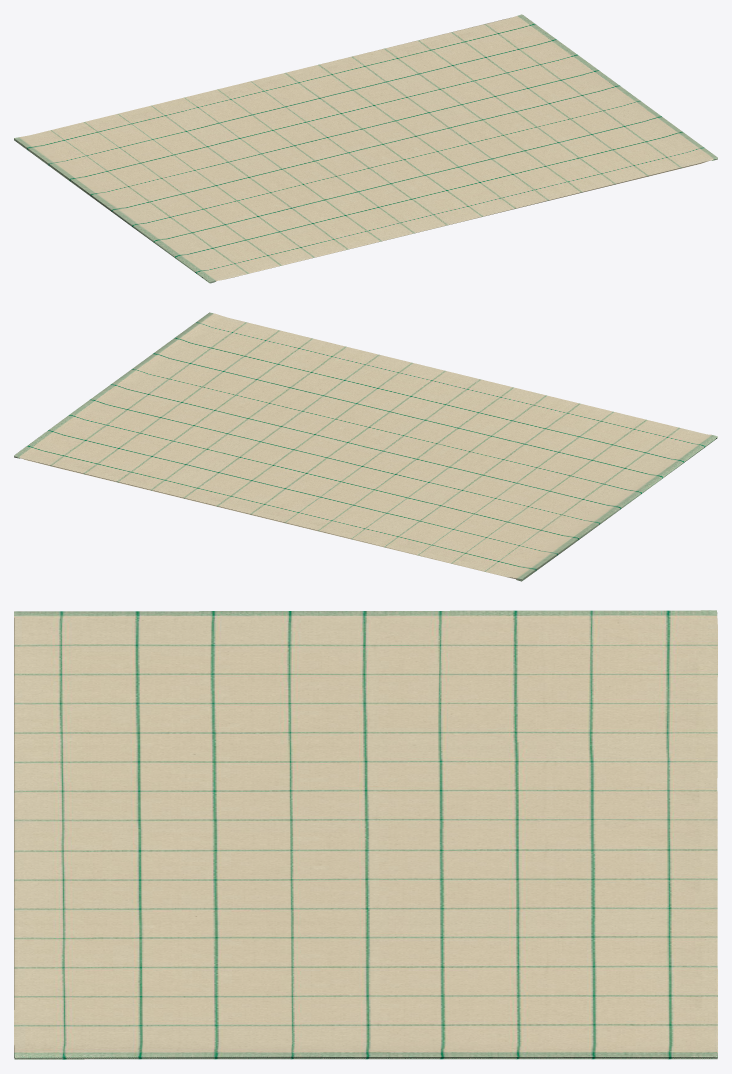
File: ridstig_rug_flatwoven_off_white_green.glb
3 views of the same model, one above another, from view 1: azimuth 30°, elevation 25°; view 2: azimuth 150°, elevation 25°; view 3: azimuth 270°, elevation 25° (orthographic). The views are drawn at different scales.
Parts seen in each view (by area): view 1: ASY_ART_10603335_S01_NV01; view 2: ASY_ART_10603335_S01_NV01; view 3: ASY_ART_10603335_S01_NV01.
Boxes of the visible parts, bbox=[...] form: ASY_ART_10603335_S01_NV01: bbox=[14, 14, 717, 283]; ASY_ART_10603335_S01_NV01: bbox=[14, 312, 717, 581]; ASY_ART_10603335_S01_NV01: bbox=[14, 610, 717, 1059].
Size of the model in its own units: 3 by 0.0132 by 2.
Materials: 1 (1 with a texture image).
